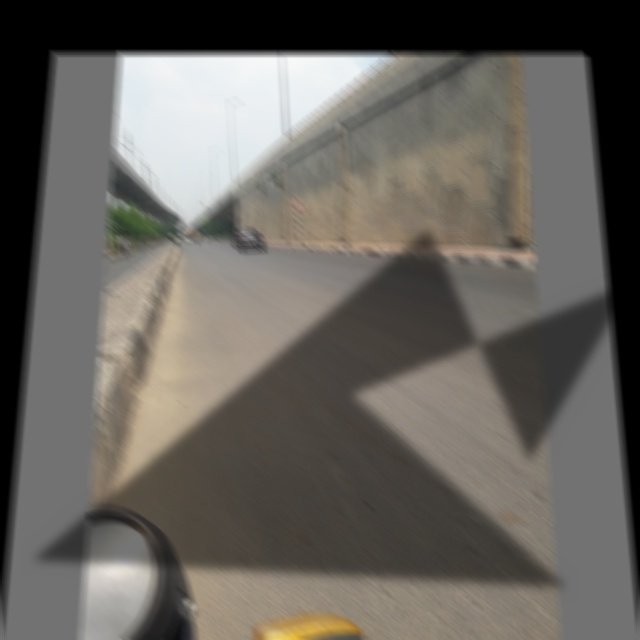Round_About: (283, 191, 308, 214)
